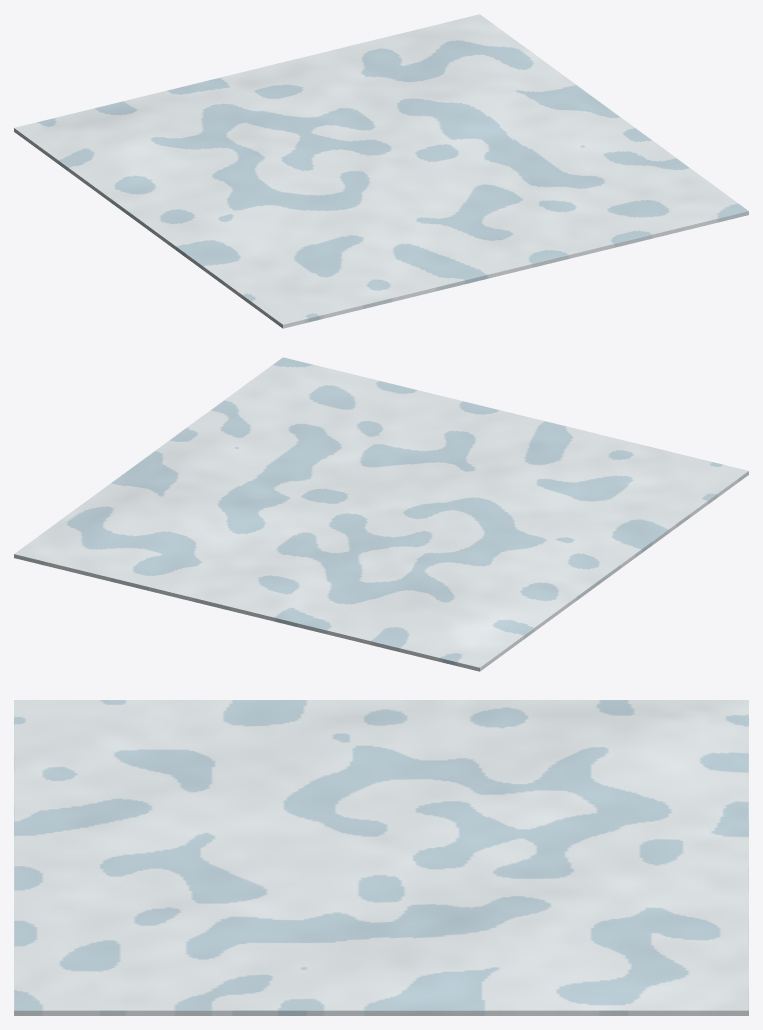
The model's file is Snow_Flat_07.obj.
The picture shows the model from 3 angles, top to bottom: view 1: azimuth 30°, elevation 25°; view 2: azimuth 150°, elevation 25°; view 3: azimuth 270°, elevation 25°; orthographic projection. The views are drawn at different scales.
Bounding box in the file's own units: 10 × 0.2239 × 10.
1 material, 1 textured.
